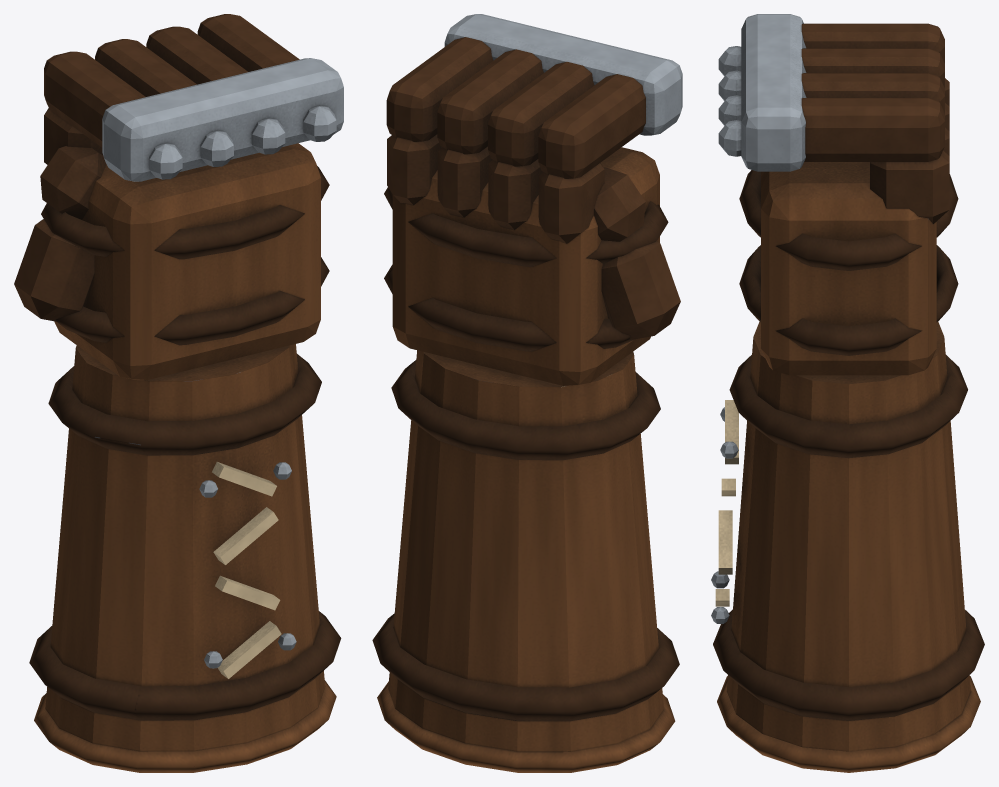
Rendered from 01_plains_gauntlet.fbx.
3 renders of one model, left to right at view 1: azimuth 30°, elevation 25°; view 2: azimuth 150°, elevation 25°; view 3: azimuth 270°, elevation 25°, orthographic.
Visible parts, largest first — view 1: Weapon; view 2: Weapon; view 3: Weapon.
Part boxes in pixels (<box>): Weapon: <box>14,14,343,772</box>; Weapon: <box>372,14,682,772</box>; Weapon: <box>711,14,984,772</box>.
Bounding box in the file's own units: 23.7 × 50.4 × 19.21.
Materials: 1 (1 with a texture image).
